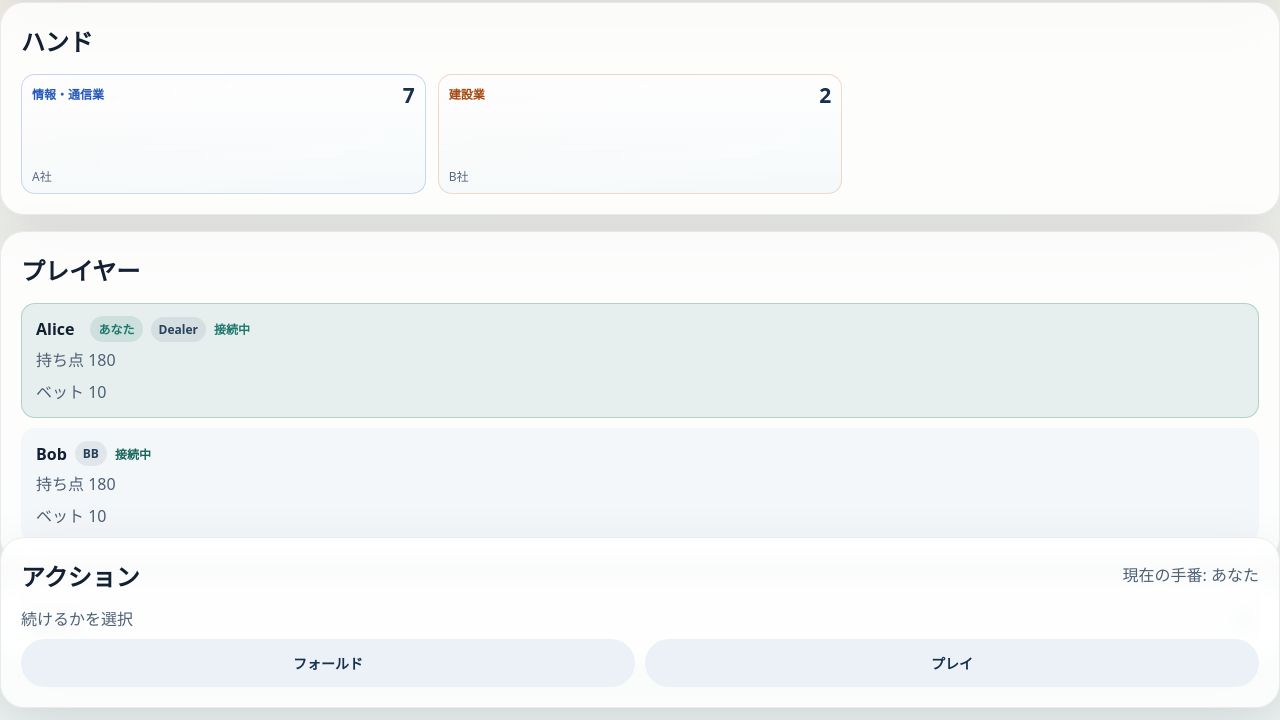
GameScreen › toggles per-player round betting history in player section
The image size is (1280, 720).
(page scrolled)
Expected: the text "ラウンド別のベット" is not shown
What coordinates should you click on to do the following:
click the button "Alice あなた Dealer 接続中 持ち点 180 ベット 10"
I would click on:
 (55, 329)
Its box is [36, 316, 1244, 405].
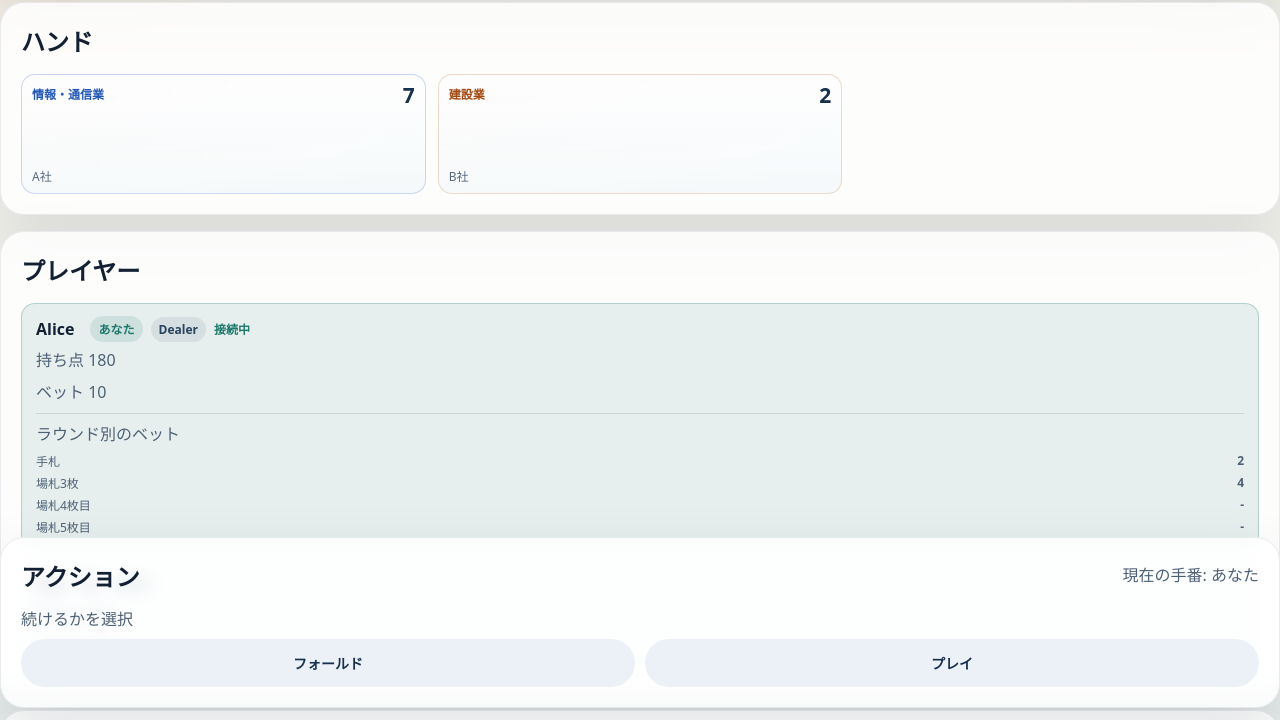
Now the text "ラウンド別のベット" is shown, box [36, 423, 180, 445]
Now the text "手札" is shown, box [36, 452, 60, 470]
Now the text "場札4枚目" is shown, box [36, 496, 91, 514]
